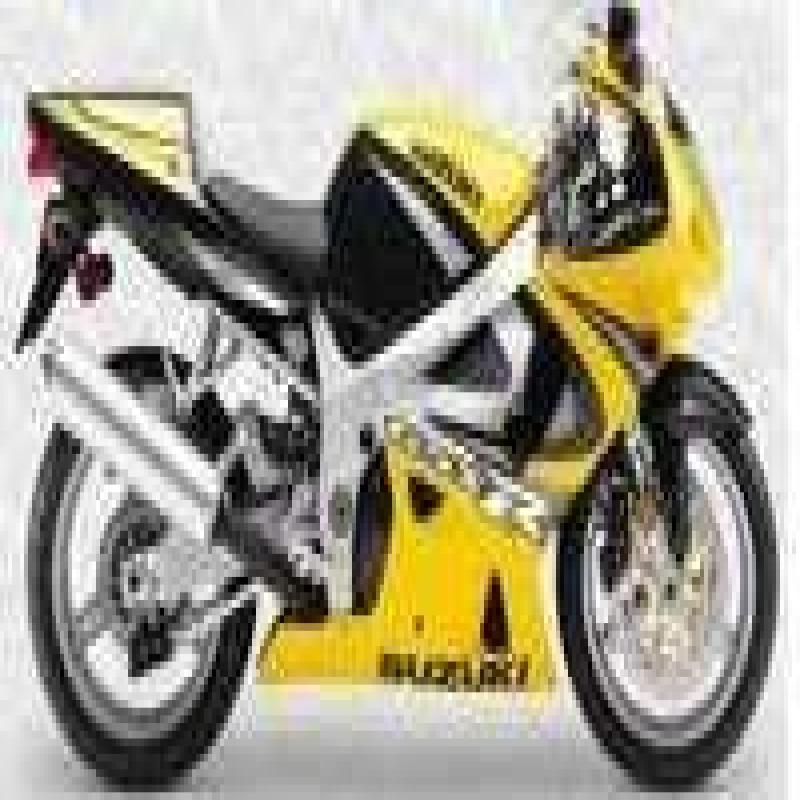bike: (12, 7, 800, 800)
